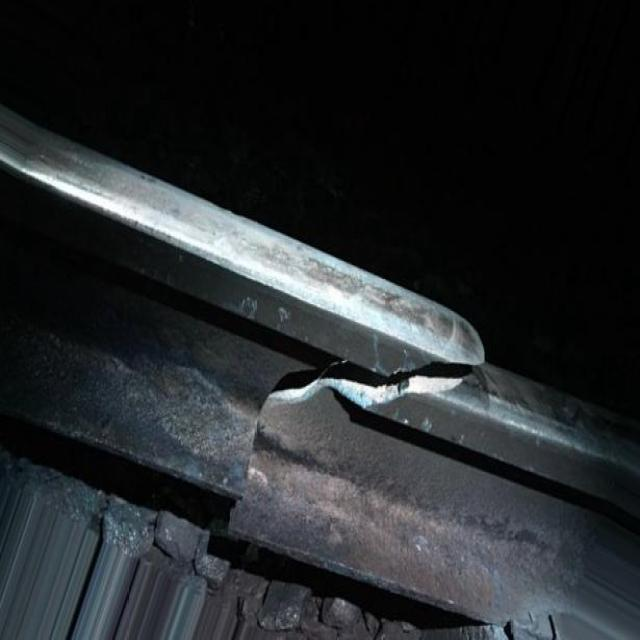crack: (164, 253, 553, 606)
